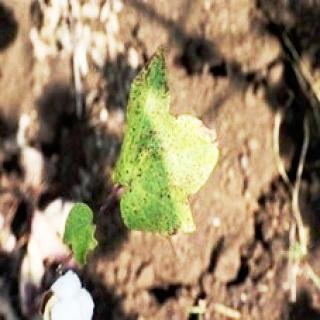leaf spot: (113, 44, 219, 246)
